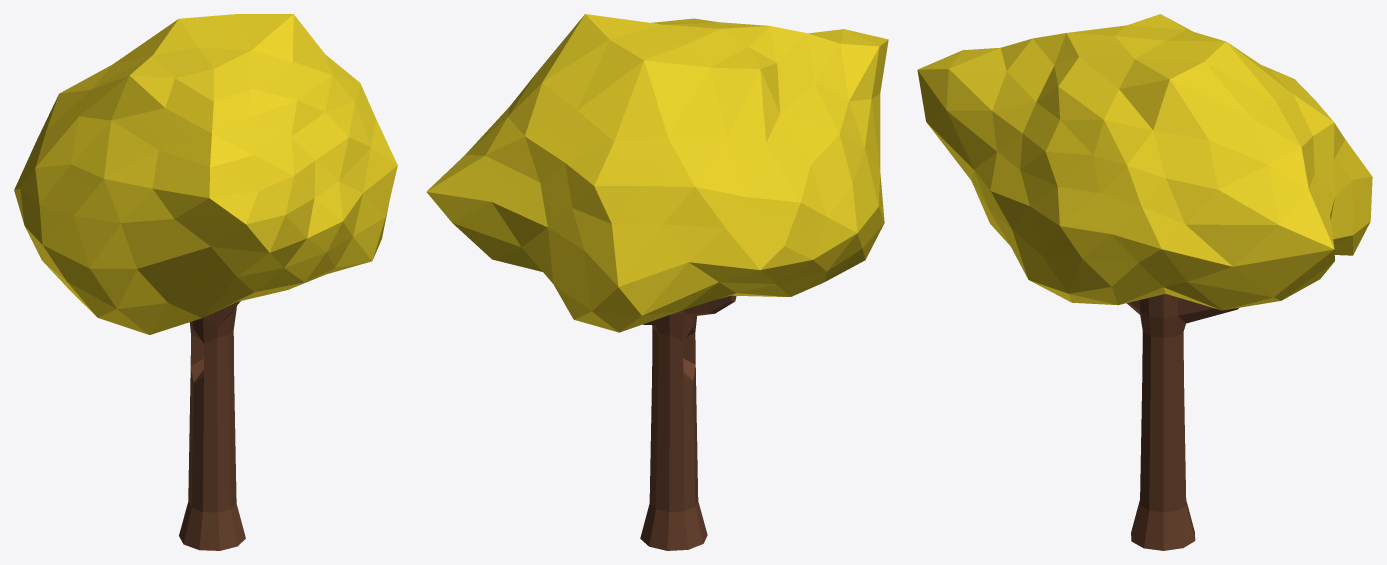
The picture shows the model from 3 angles, left to right: view 1: azimuth 30°, elevation 25°; view 2: azimuth 150°, elevation 25°; view 3: azimuth 270°, elevation 25°; orthographic projection.
Parts seen in each view (by area): view 1: t3-yellow; view 2: t3-yellow; view 3: t3-yellow.
Boxes of the visible parts, x1,y1,x2,y2 form: t3-yellow: (14, 14, 397, 550); t3-yellow: (426, 14, 888, 550); t3-yellow: (917, 14, 1372, 550).
Bounding box in the file's own units: 651 × 923 × 764.
